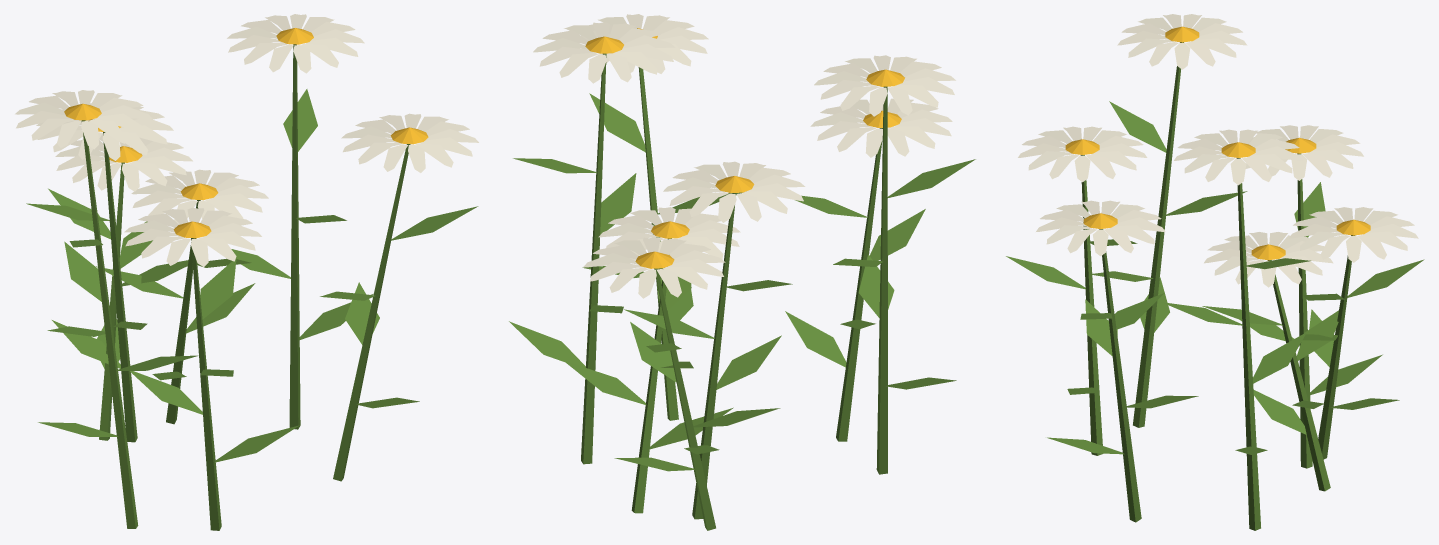
Rendered from Wildflower_LOD0.fbx.
3 views of the same model, side by side, from view 1: azimuth 30°, elevation 25°; view 2: azimuth 150°, elevation 25°; view 3: azimuth 270°, elevation 25° (orthographic). The views are drawn at different scales.
Parts seen in each view (by area): view 1: Wildflower_LOD0; view 2: Wildflower_LOD0; view 3: Wildflower_LOD0.
Part boxes in pixels (left/top/right/bottom): Wildflower_LOD0: left=15, top=14, right=478, bottom=530; Wildflower_LOD0: left=509, top=14, right=975, bottom=530; Wildflower_LOD0: left=1006, top=14, right=1424, bottom=530.
Size of the model in its own units: 65.78 by 64.71 by 63.42.
